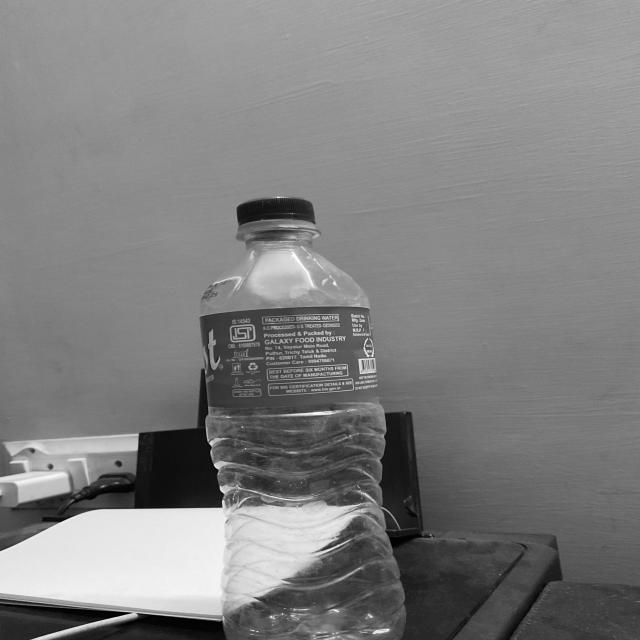Good-cap-Df0S: (231, 200, 326, 234)
